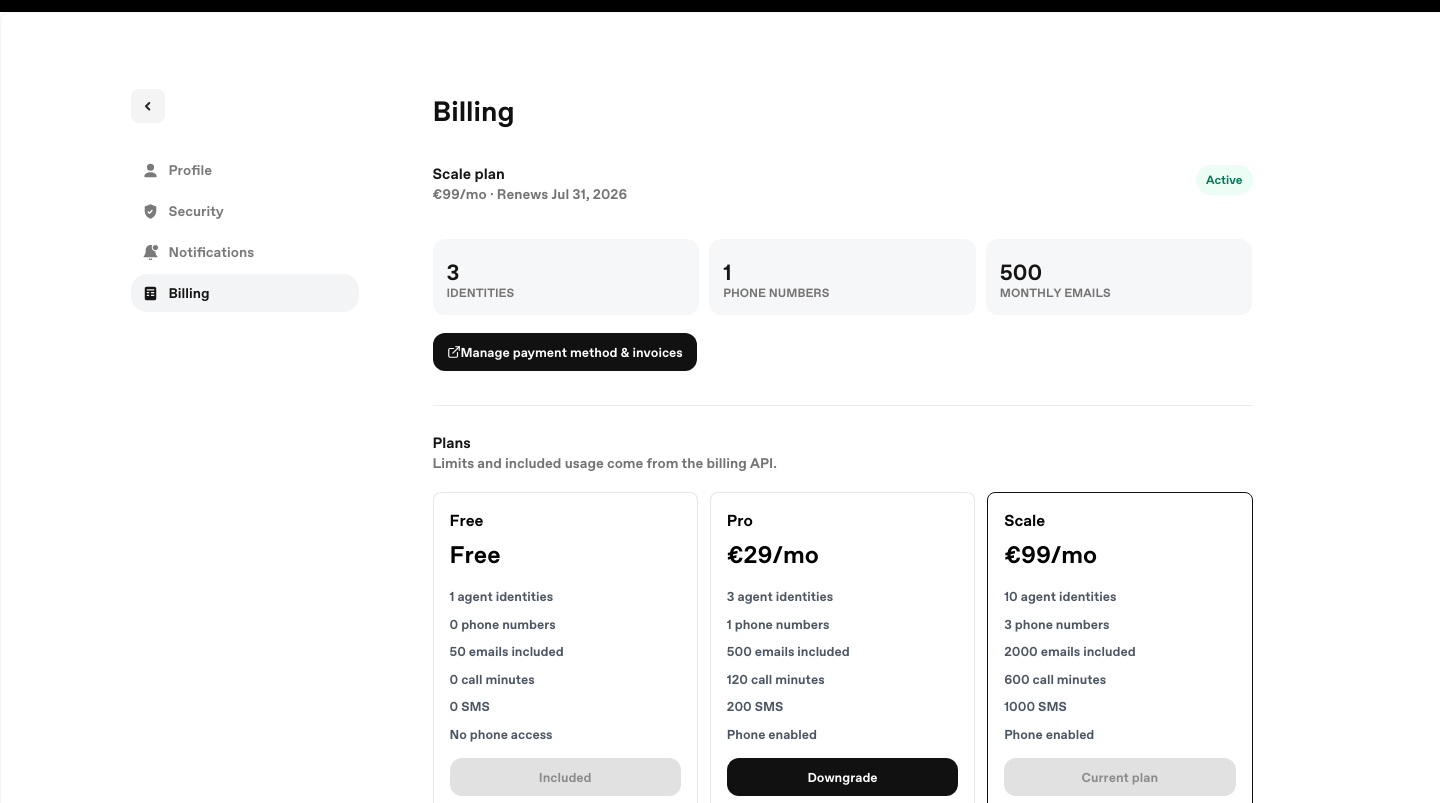
Scenario: UserSettingsPage billing › renders downgrade blocking resources from 409 checkout
The width and height of the screenshot is (1440, 803).
Click the button "Downgrade". click: click(842, 777)
box: left=727, top=758, right=958, bottom=796
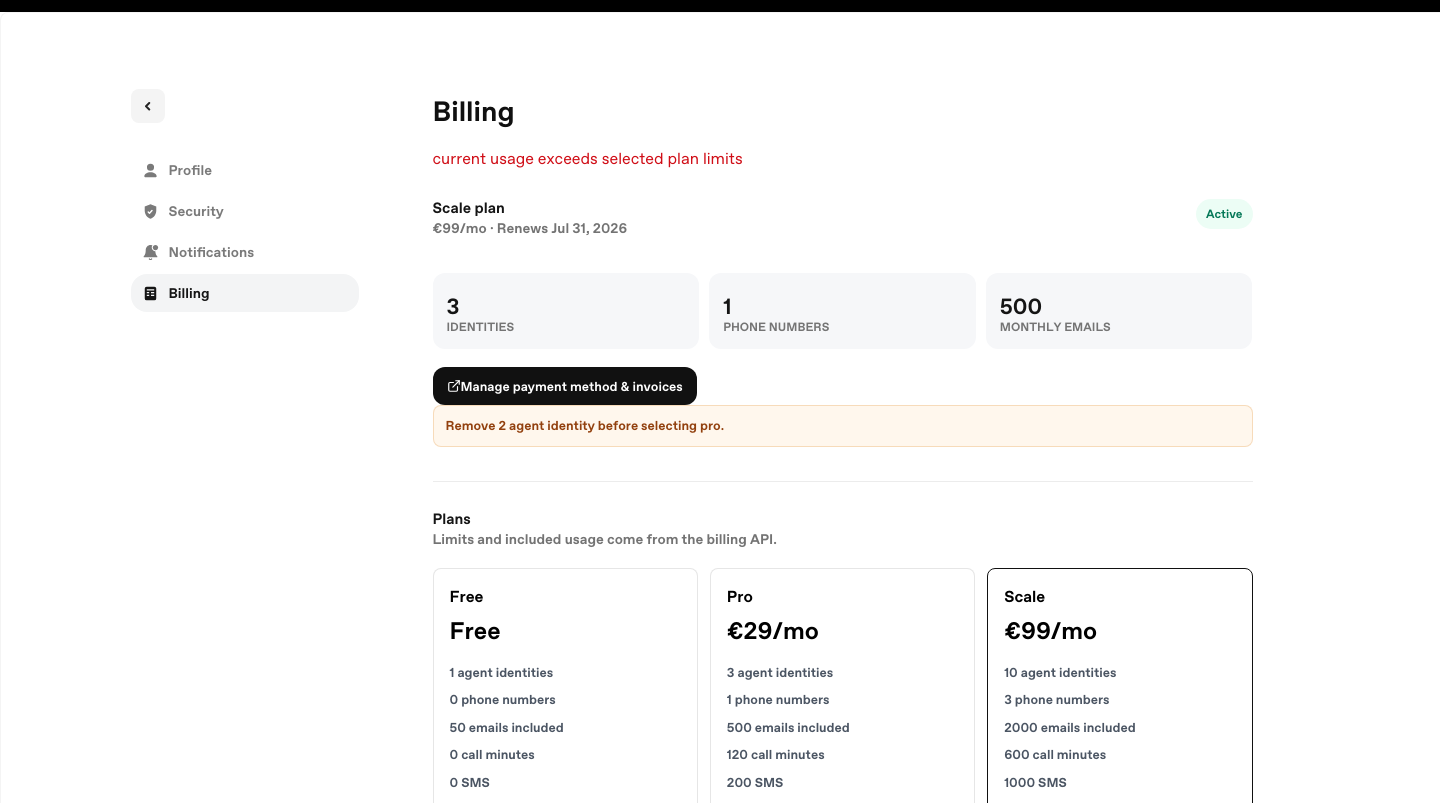
Expected: the text "Remove 2 agent identity before selecting pro." is shown, left=446, top=418, right=724, bottom=433
